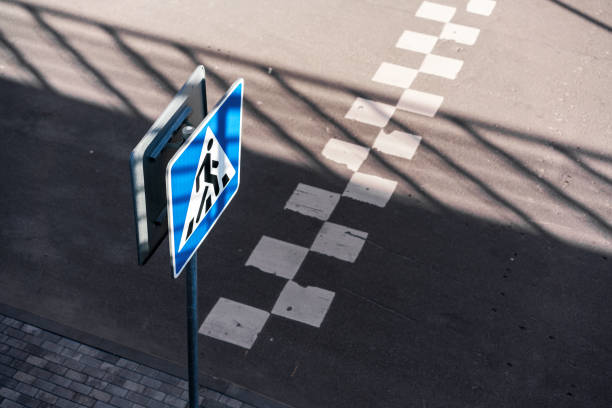yaya_gecidi: (164, 80, 260, 278)
